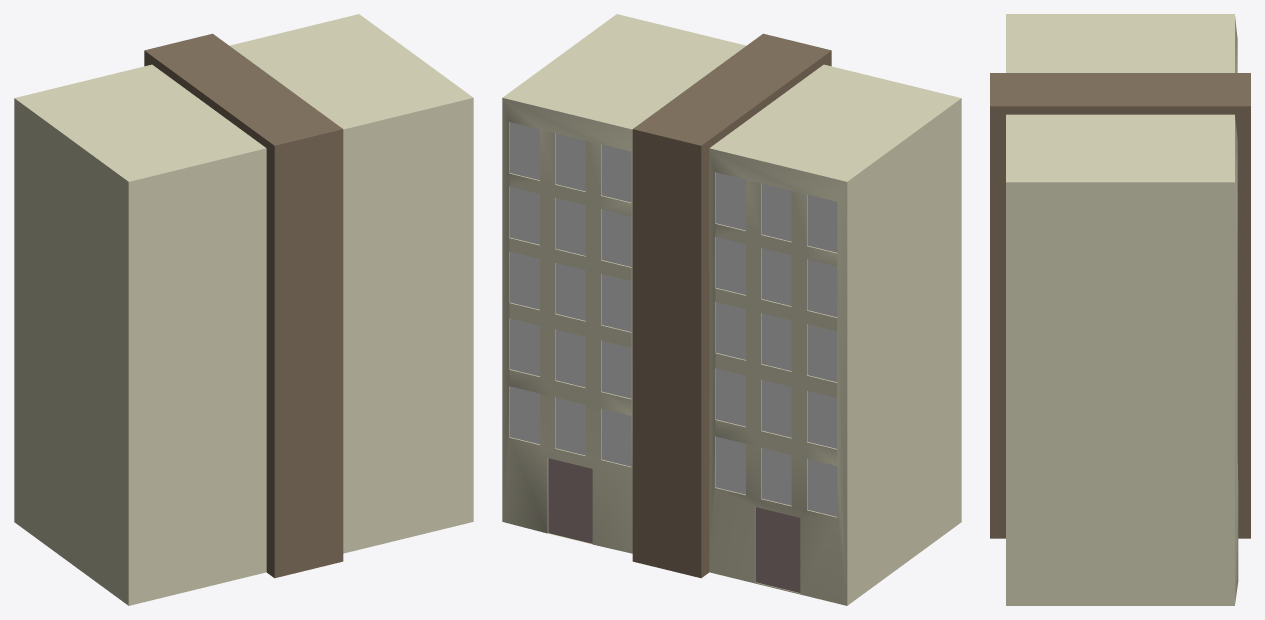
File: Building_6.fbx
3 renders of one model, left to right at view 1: azimuth 30°, elevation 25°; view 2: azimuth 150°, elevation 25°; view 3: azimuth 270°, elevation 25°, orthographic.
Parts seen in each view (by area): view 1: pCube210; view 2: pCube210; view 3: pCube210.
Part boxes in pixels (x1,y1,x2,y2): pCube210: (14,14,473,605); pCube210: (502,14,961,605); pCube210: (990,14,1250,605).
Size of the model in its own units: 129 by 155 by 84.63.
